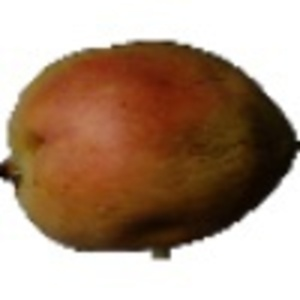mamão: (7, 31, 297, 254)
